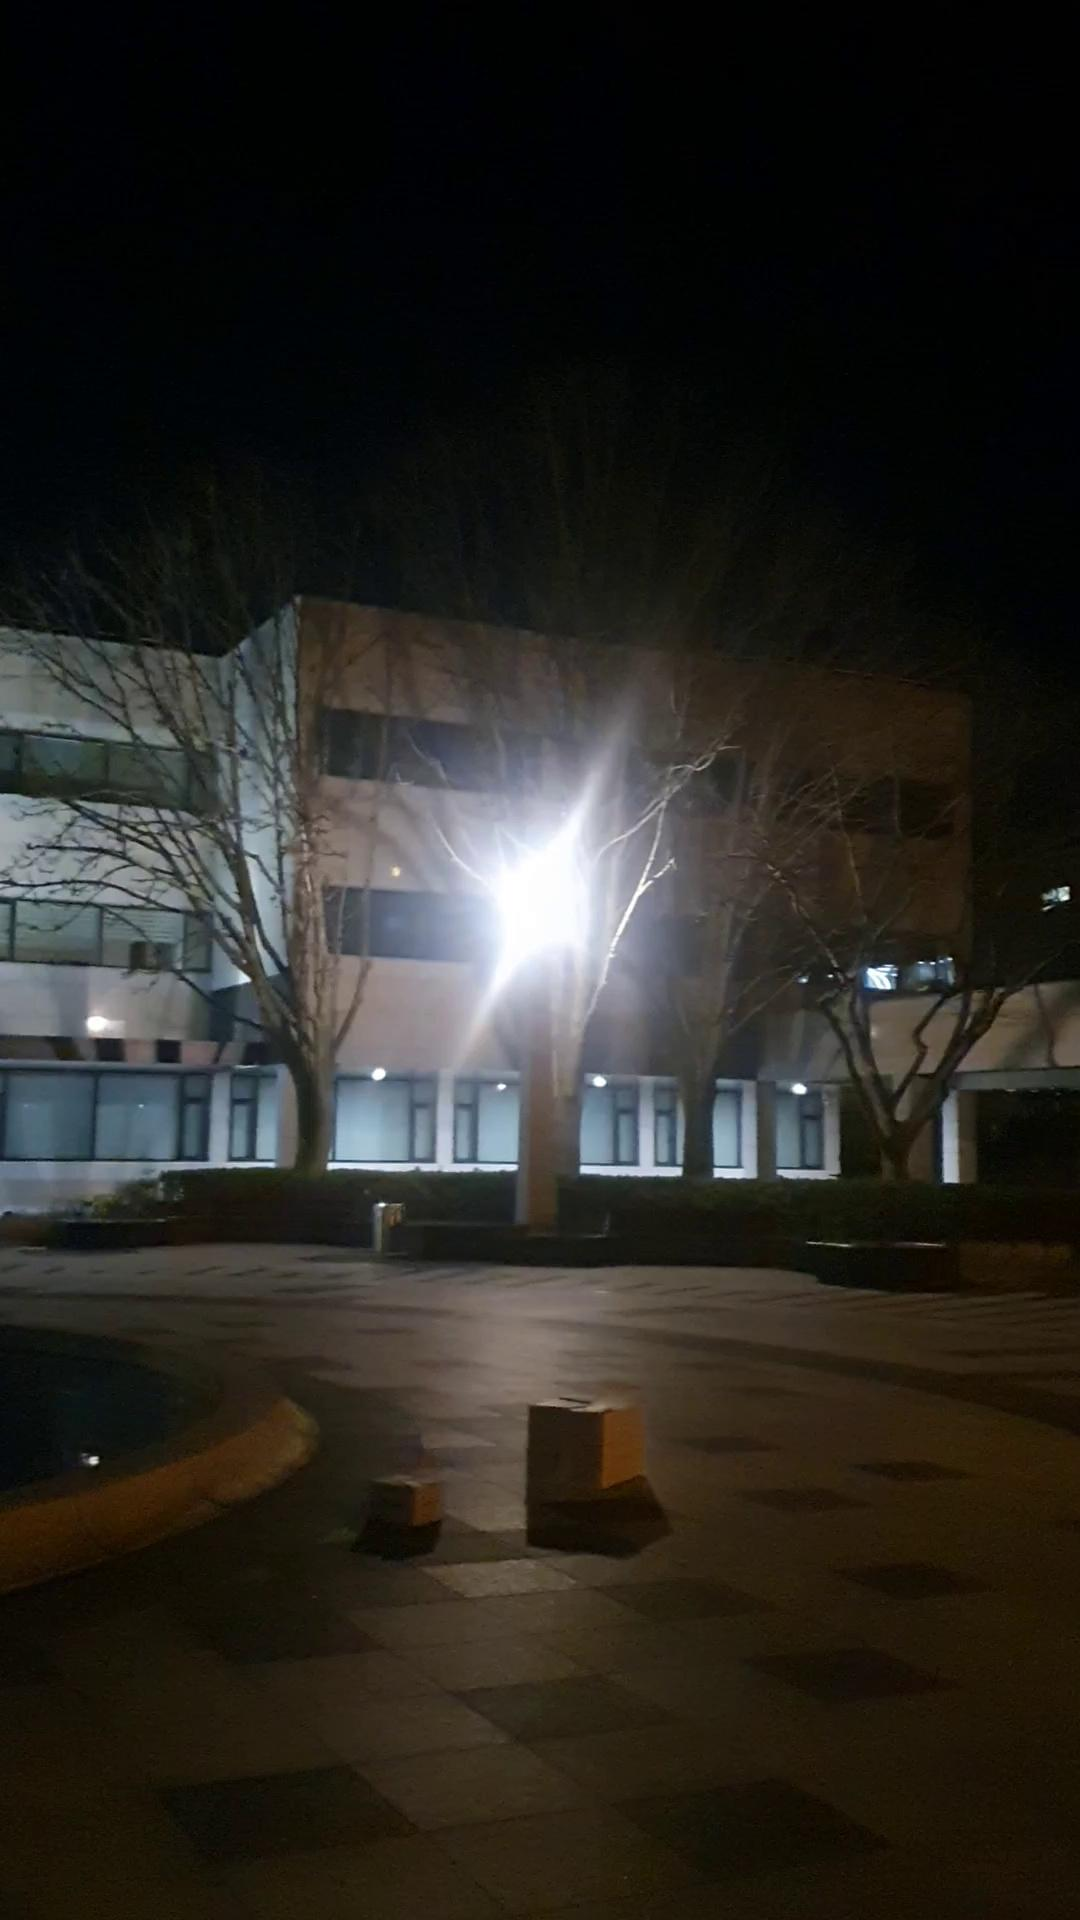Box: (516, 1383, 653, 1510), (368, 1455, 447, 1530)
